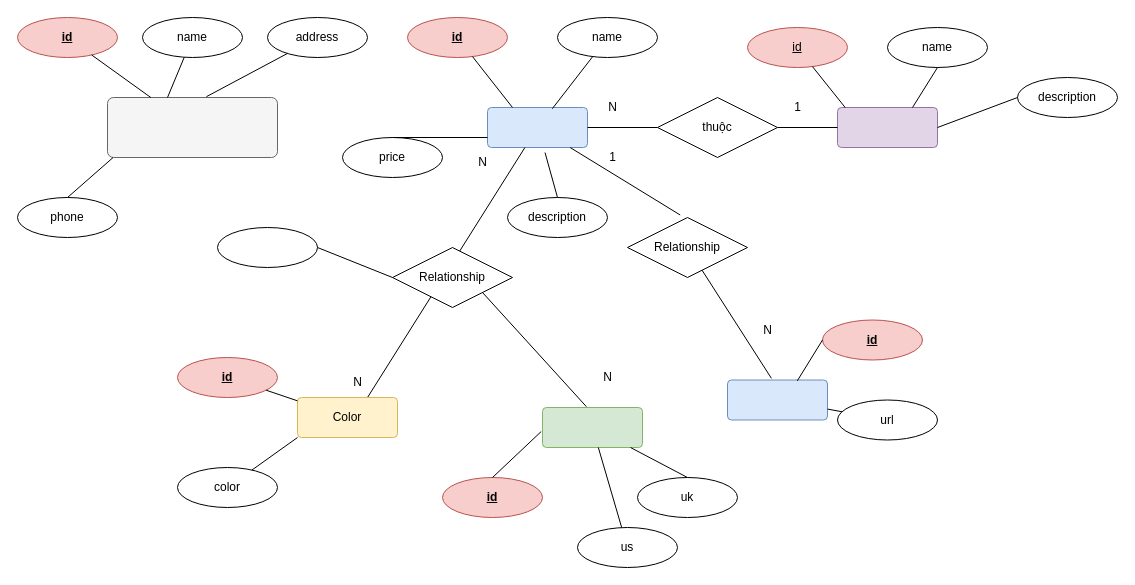
Some shapes in this 1135 by 585 pixel diagram are drawn without their labels. The shapes that lost their labels are listed below. From the top down, each one's centre as x and y in pixels, then its label:
the point at 192,127: Store
the point at 537,127: Product
the point at 887,127: Brand
the point at 267,247: Quantity
the point at 777,399: Image
the point at 592,427: Size
